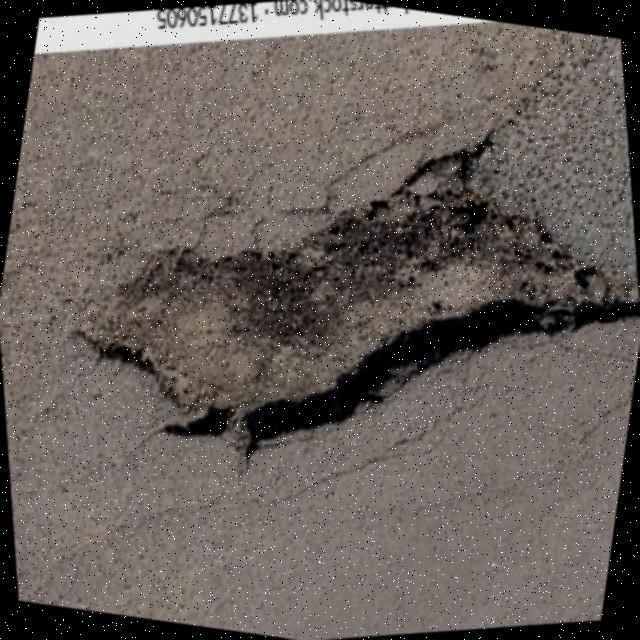Pothole: (74, 147, 635, 471)
